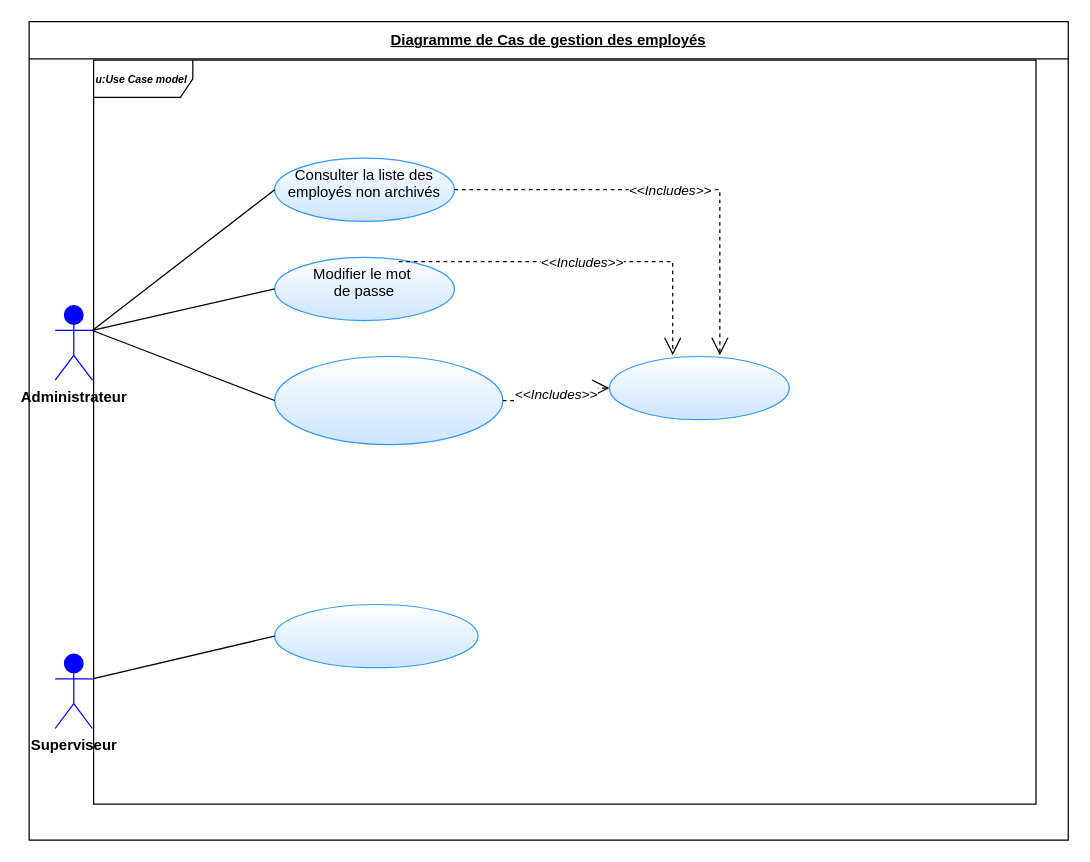
This 1090x862 diagram has some shape labels left out. The shapes that lost their labels are listed below. From the top down, each one's centre as x and y in pixels, then its label:
At point (388, 400): "Mettre à jour les informations personnelles et professionnelles d'un employé".
At point (698, 387): "Authentifier".
At point (375, 635): "Consulter la liste des employés qu'il supervise".
